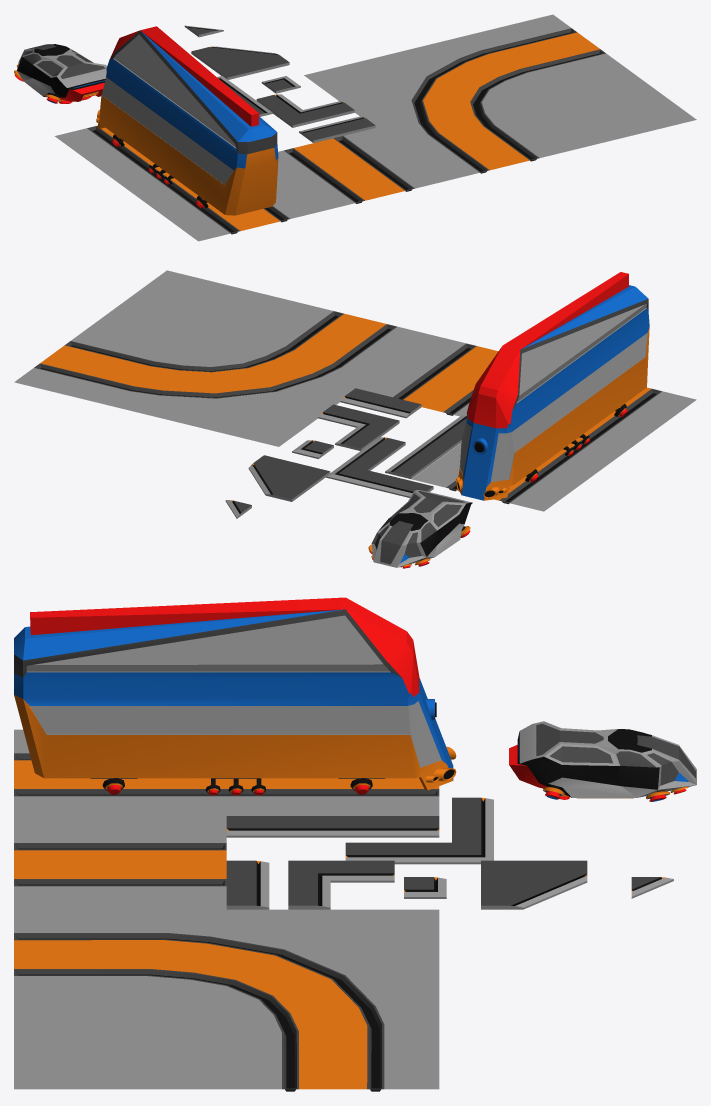
The model's file is CitySpecial00.FBX.
3 views of the same model, one above another, from view 1: azimuth 30°, elevation 25°; view 2: azimuth 150°, elevation 25°; view 3: azimuth 270°, elevation 25° (orthographic). The views are drawn at different scales.
Parts seen in each view (by area): view 1: CityTerrain_Rail_10x10, CityTerrain_Rail_10x011, CityTerrain_Rail_5x5, CityTerrain_Rail_10x5, Box076, CityTerrain_Sidewalk_2.008, CityTerrain_Sidewalk_2.006, CityTerrain_Sidewalk_2.5, CityTerrain_Sidewalk_Corner1, CityTerrain_Sidewalk_2.007; view 2: CityTerrain_Rail_10x10, CityTerrain_Rail_10x011, CityTerrain_Rail_10x5, CityTerrain_Rail_5x5, Box076, CityTerrain_Sidewalk_Corner1, CityTerrain_Sidewalk_2.008, CityTerrain_Sidewalk_2.006, CityTerrain_Sidewalk_5, CityTerrain_Sidewalk_2.5, CityTerrain_Sidewalk_2.007; view 3: CityTerrain_Rail_10x10, CityTerrain_Rail_10x011, CityTerrain_Rail_5x5, CityTerrain_Rail_10x5, Box076, CityTerrain_Sidewalk_Corner1, CityTerrain_Sidewalk_5, CityTerrain_Sidewalk_2.008, CityTerrain_Sidewalk_2.006, CityTerrain_Sidewalk_2.5, CityTerrain_Sidewalk_2.007.
Part boxes in pixels (<box>): CityTerrain_Rail_10x10: <box>304,14,696,180</box>; CityTerrain_Rail_10x011: <box>96,26,278,215</box>; CityTerrain_Rail_5x5: <box>277,128,446,210</box>; CityTerrain_Rail_10x5: <box>54,125,322,241</box>; Box076: <box>14,44,106,103</box>; CityTerrain_Sidewalk_2.008: <box>191,46,289,79</box>; CityTerrain_Sidewalk_2.006: <box>256,94,354,127</box>; CityTerrain_Sidewalk_2.5: <box>299,116,375,142</box>; CityTerrain_Sidewalk_Corner1: <box>217,76,272,116</box>; CityTerrain_Sidewalk_2.007: <box>261,76,300,93</box>; CityTerrain_Rail_10x10: <box>14,270,431,446</box>; CityTerrain_Rail_10x011: <box>456,272,649,500</box>; CityTerrain_Rail_10x5: <box>412,387,696,511</box>; CityTerrain_Rail_5x5: <box>358,335,498,416</box>; Box076: <box>368,490,472,568</box>; CityTerrain_Sidewalk_Corner1: <box>326,437,433,497</box>; CityTerrain_Sidewalk_2.008: <box>248,455,330,501</box>; CityTerrain_Sidewalk_2.006: <box>318,404,399,450</box>; CityTerrain_Sidewalk_5: <box>385,415,466,478</box>; CityTerrain_Sidewalk_2.5: <box>340,388,421,418</box>; CityTerrain_Sidewalk_2.007: <box>292,440,333,458</box>; CityTerrain_Rail_10x10: <box>14,909,439,1091</box>; CityTerrain_Rail_10x011: <box>14,597,456,790</box>; CityTerrain_Rail_5x5: <box>14,819,226,909</box>; CityTerrain_Rail_10x5: <box>14,729,439,819</box>; Box076: <box>509,721,696,801</box>; CityTerrain_Sidewalk_Corner1: <box>345,797,493,864</box>; CityTerrain_Sidewalk_5: <box>226,816,439,837</box>; CityTerrain_Sidewalk_2.008: <box>481,860,587,909</box>; CityTerrain_Sidewalk_2.006: <box>288,860,394,909</box>; CityTerrain_Sidewalk_2.5: <box>226,860,269,909</box>; CityTerrain_Sidewalk_2.007: <box>404,877,446,898</box>.
Size of the model in its own units: 200 by 48.8 by 161.
